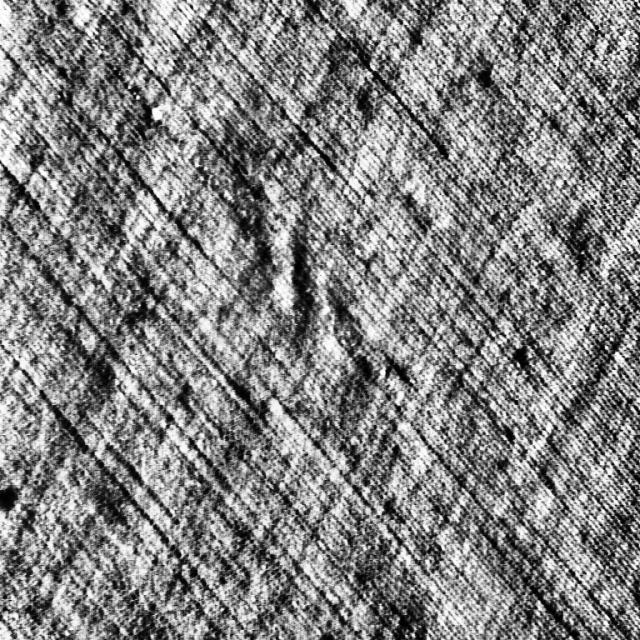cut: (143, 97, 172, 136)
